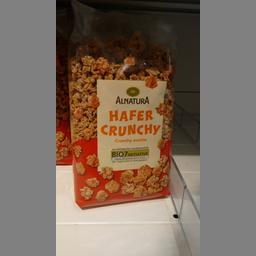cereal: (65, 24, 174, 208)
